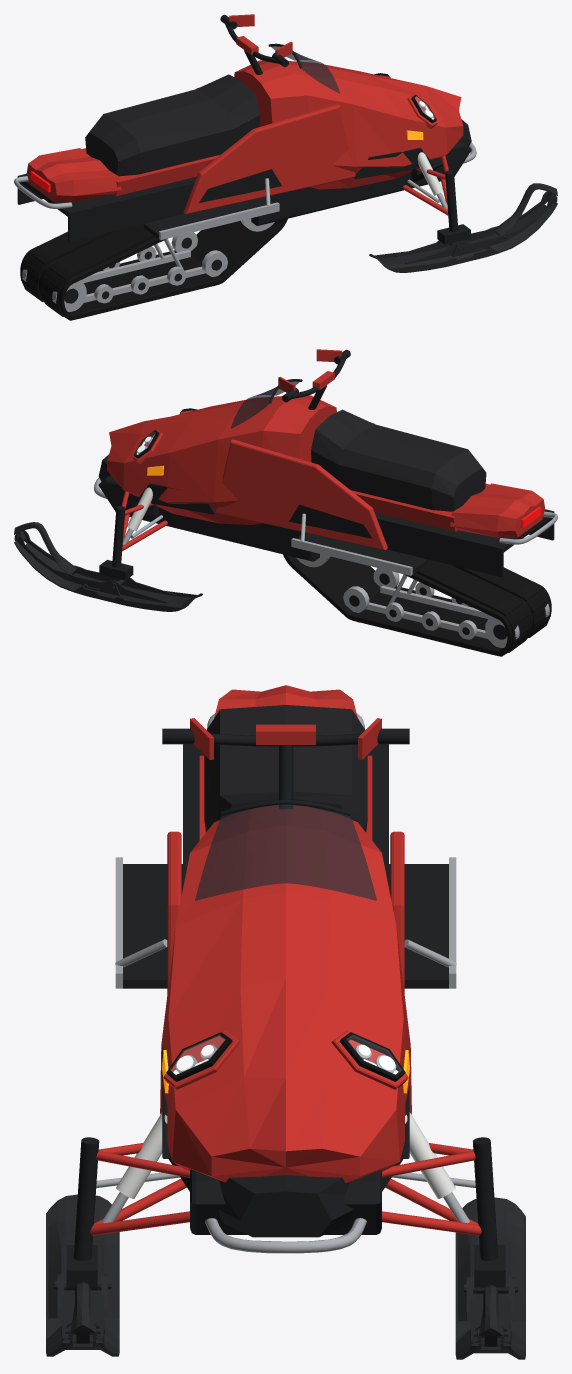
The model's file is quad_sled600.glb.
3 views of the same model, one above another, from view 1: azimuth 30°, elevation 25°; view 2: azimuth 150°, elevation 25°; view 3: azimuth 270°, elevation 25° (orthographic). The views are drawn at different scales.
Visible parts, largest first — view 1: hood, side_intake_left, seat, headlight_surround_left, track, ski_left, idler_front_wheel_left, headlight_projector_ring_high_left, track_lug_0l, track_lug_0l_p5, track_lug_0l_p3, ski_saddle_left (+9 smaller); view 2: hood, side_intake_left, seat, headlight_surround_left, track, ski_right, idler_front_wheel_left, headlight_projector_ring_high_left, track_lug_0l, track_lug_0l_p5, track_lug_0l_p3, ski_saddle_right (+9 smaller); view 3: hood, side_intake_left, seat, windshield, headlight_surround_left, ski_left, ski_right, front_fascia, headlight_projector_ring_high_left, ski_saddle_right, ski_saddle_left, steering_post (+4 smaller).
Boxes of the visible parts, x1,y1,x2,y2 form: hood: [26, 60, 463, 202]; side_intake_left: [17, 43, 471, 241]; seat: [85, 74, 260, 176]; headlight_surround_left: [183, 75, 448, 215]; track: [20, 218, 287, 319]; ski_left: [369, 183, 557, 272]; idler_front_wheel_left: [22, 232, 227, 311]; headlight_projector_ring_high_left: [14, 101, 476, 240]; track_lug_0l: [20, 224, 218, 320]; track_lug_0l_p5: [21, 225, 211, 320]; track_lug_0l_p3: [21, 223, 214, 319]; ski_saddle_left: [437, 170, 470, 244]; hood: [107, 395, 544, 538]; side_intake_left: [98, 379, 554, 577]; seat: [311, 409, 486, 511]; headlight_surround_left: [121, 410, 387, 551]; track: [283, 554, 551, 655]; ski_right: [14, 522, 202, 611]; idler_front_wheel_left: [343, 568, 549, 647]; headlight_projector_ring_high_left: [94, 436, 557, 575]; track_lug_0l: [352, 560, 551, 656]; track_lug_0l_p5: [359, 561, 550, 656]; track_lug_0l_p3: [356, 559, 550, 655]; ski_saddle_right: [99, 506, 133, 580]; hood: [160, 685, 411, 1182]; side_intake_left: [123, 744, 448, 1234]; seat: [204, 705, 367, 832]; windshield: [195, 804, 376, 900]; headlight_surround_left: [90, 831, 481, 1235]; ski_left: [46, 1194, 119, 1356]; ski_right: [455, 1197, 525, 1359]; front_fascia: [168, 1153, 403, 1237]; headlight_projector_ring_high_left: [96, 713, 475, 1253]; ski_saddle_right: [472, 1137, 505, 1287]; ski_saddle_left: [66, 1137, 99, 1287]; steering_post: [162, 728, 409, 809].
Bounding box in the file's own units: 2.77 × 1.24 × 1.2.
